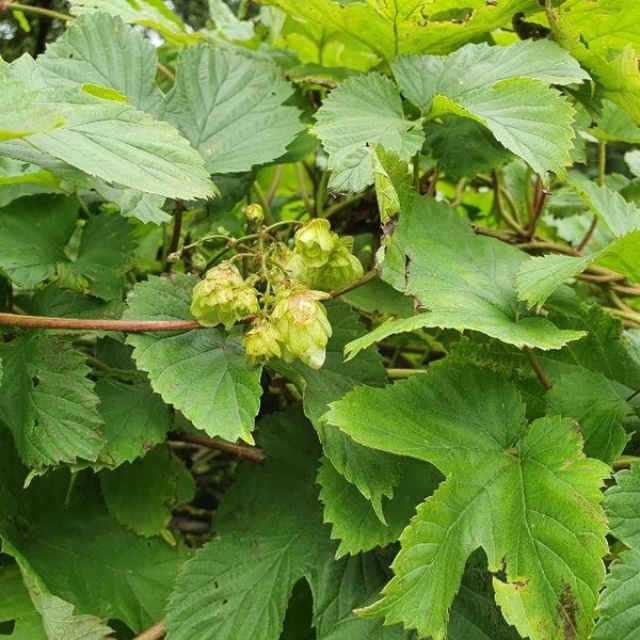obstacle: (34, 37, 607, 624)
